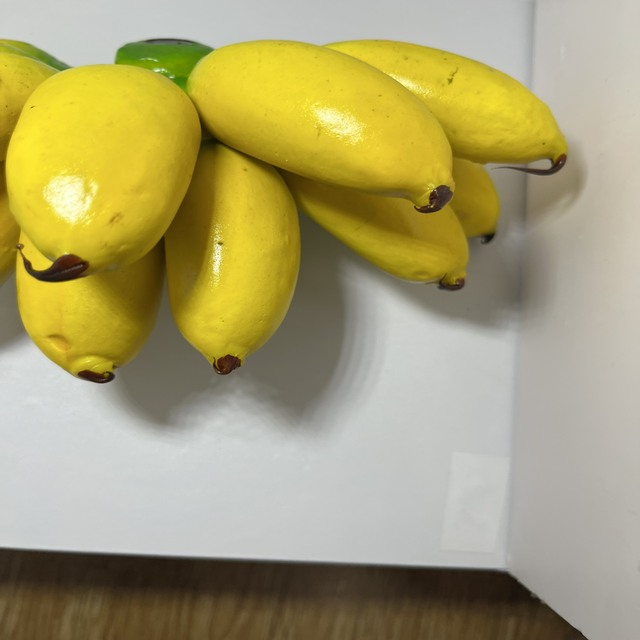Chuoi: (0, 31, 575, 391)
